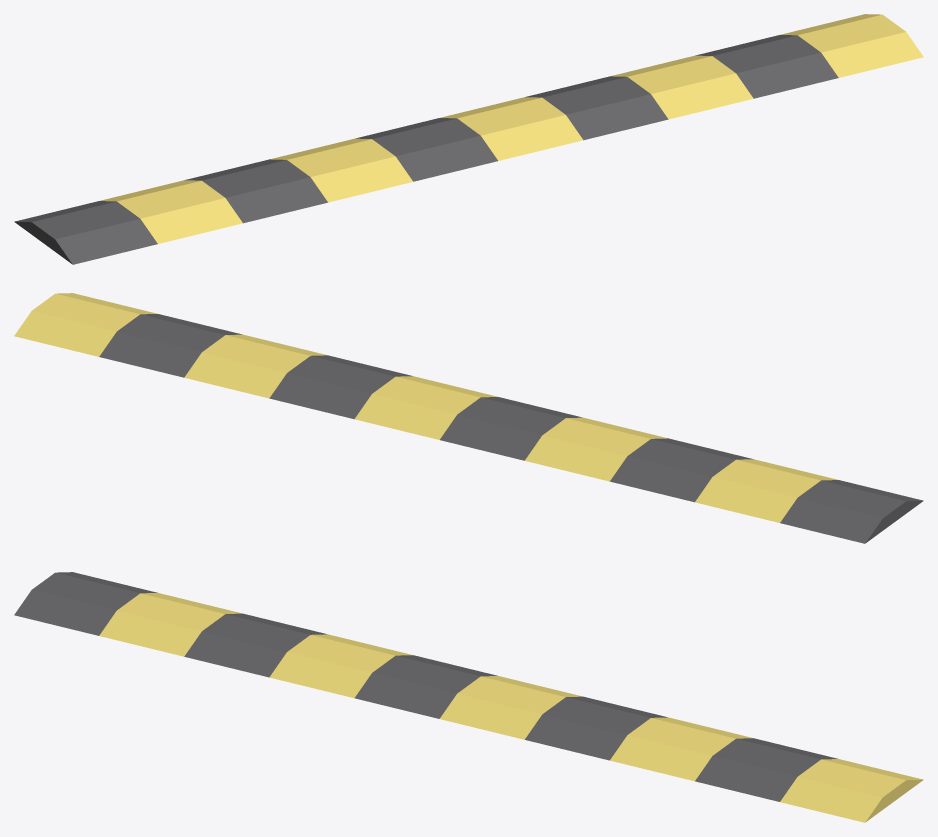
Rendered from speed_bump.glb.
3 renders of one model, top to bottom at view 1: azimuth 30°, elevation 25°; view 2: azimuth 150°, elevation 25°; view 3: azimuth 330°, elevation 25°, orthographic.
Visible parts, largest first — view 1: speed_bump_dark, speed_bump_paint_y; view 2: speed_bump_dark, speed_bump_paint_y; view 3: speed_bump_paint_y, speed_bump_dark.
Part boxes in pixels (x1,y1,x2,y2): speed_bump_dark: (14,35,838,264); speed_bump_paint_y: (100,14,923,243); speed_bump_dark: (99,314,923,543); speed_bump_paint_y: (14,293,837,522); speed_bump_paint_y: (99,593,923,822); speed_bump_dark: (14,572,837,801).
Bounding box in the file's own units: 5 × 0.07 × 0.6.
